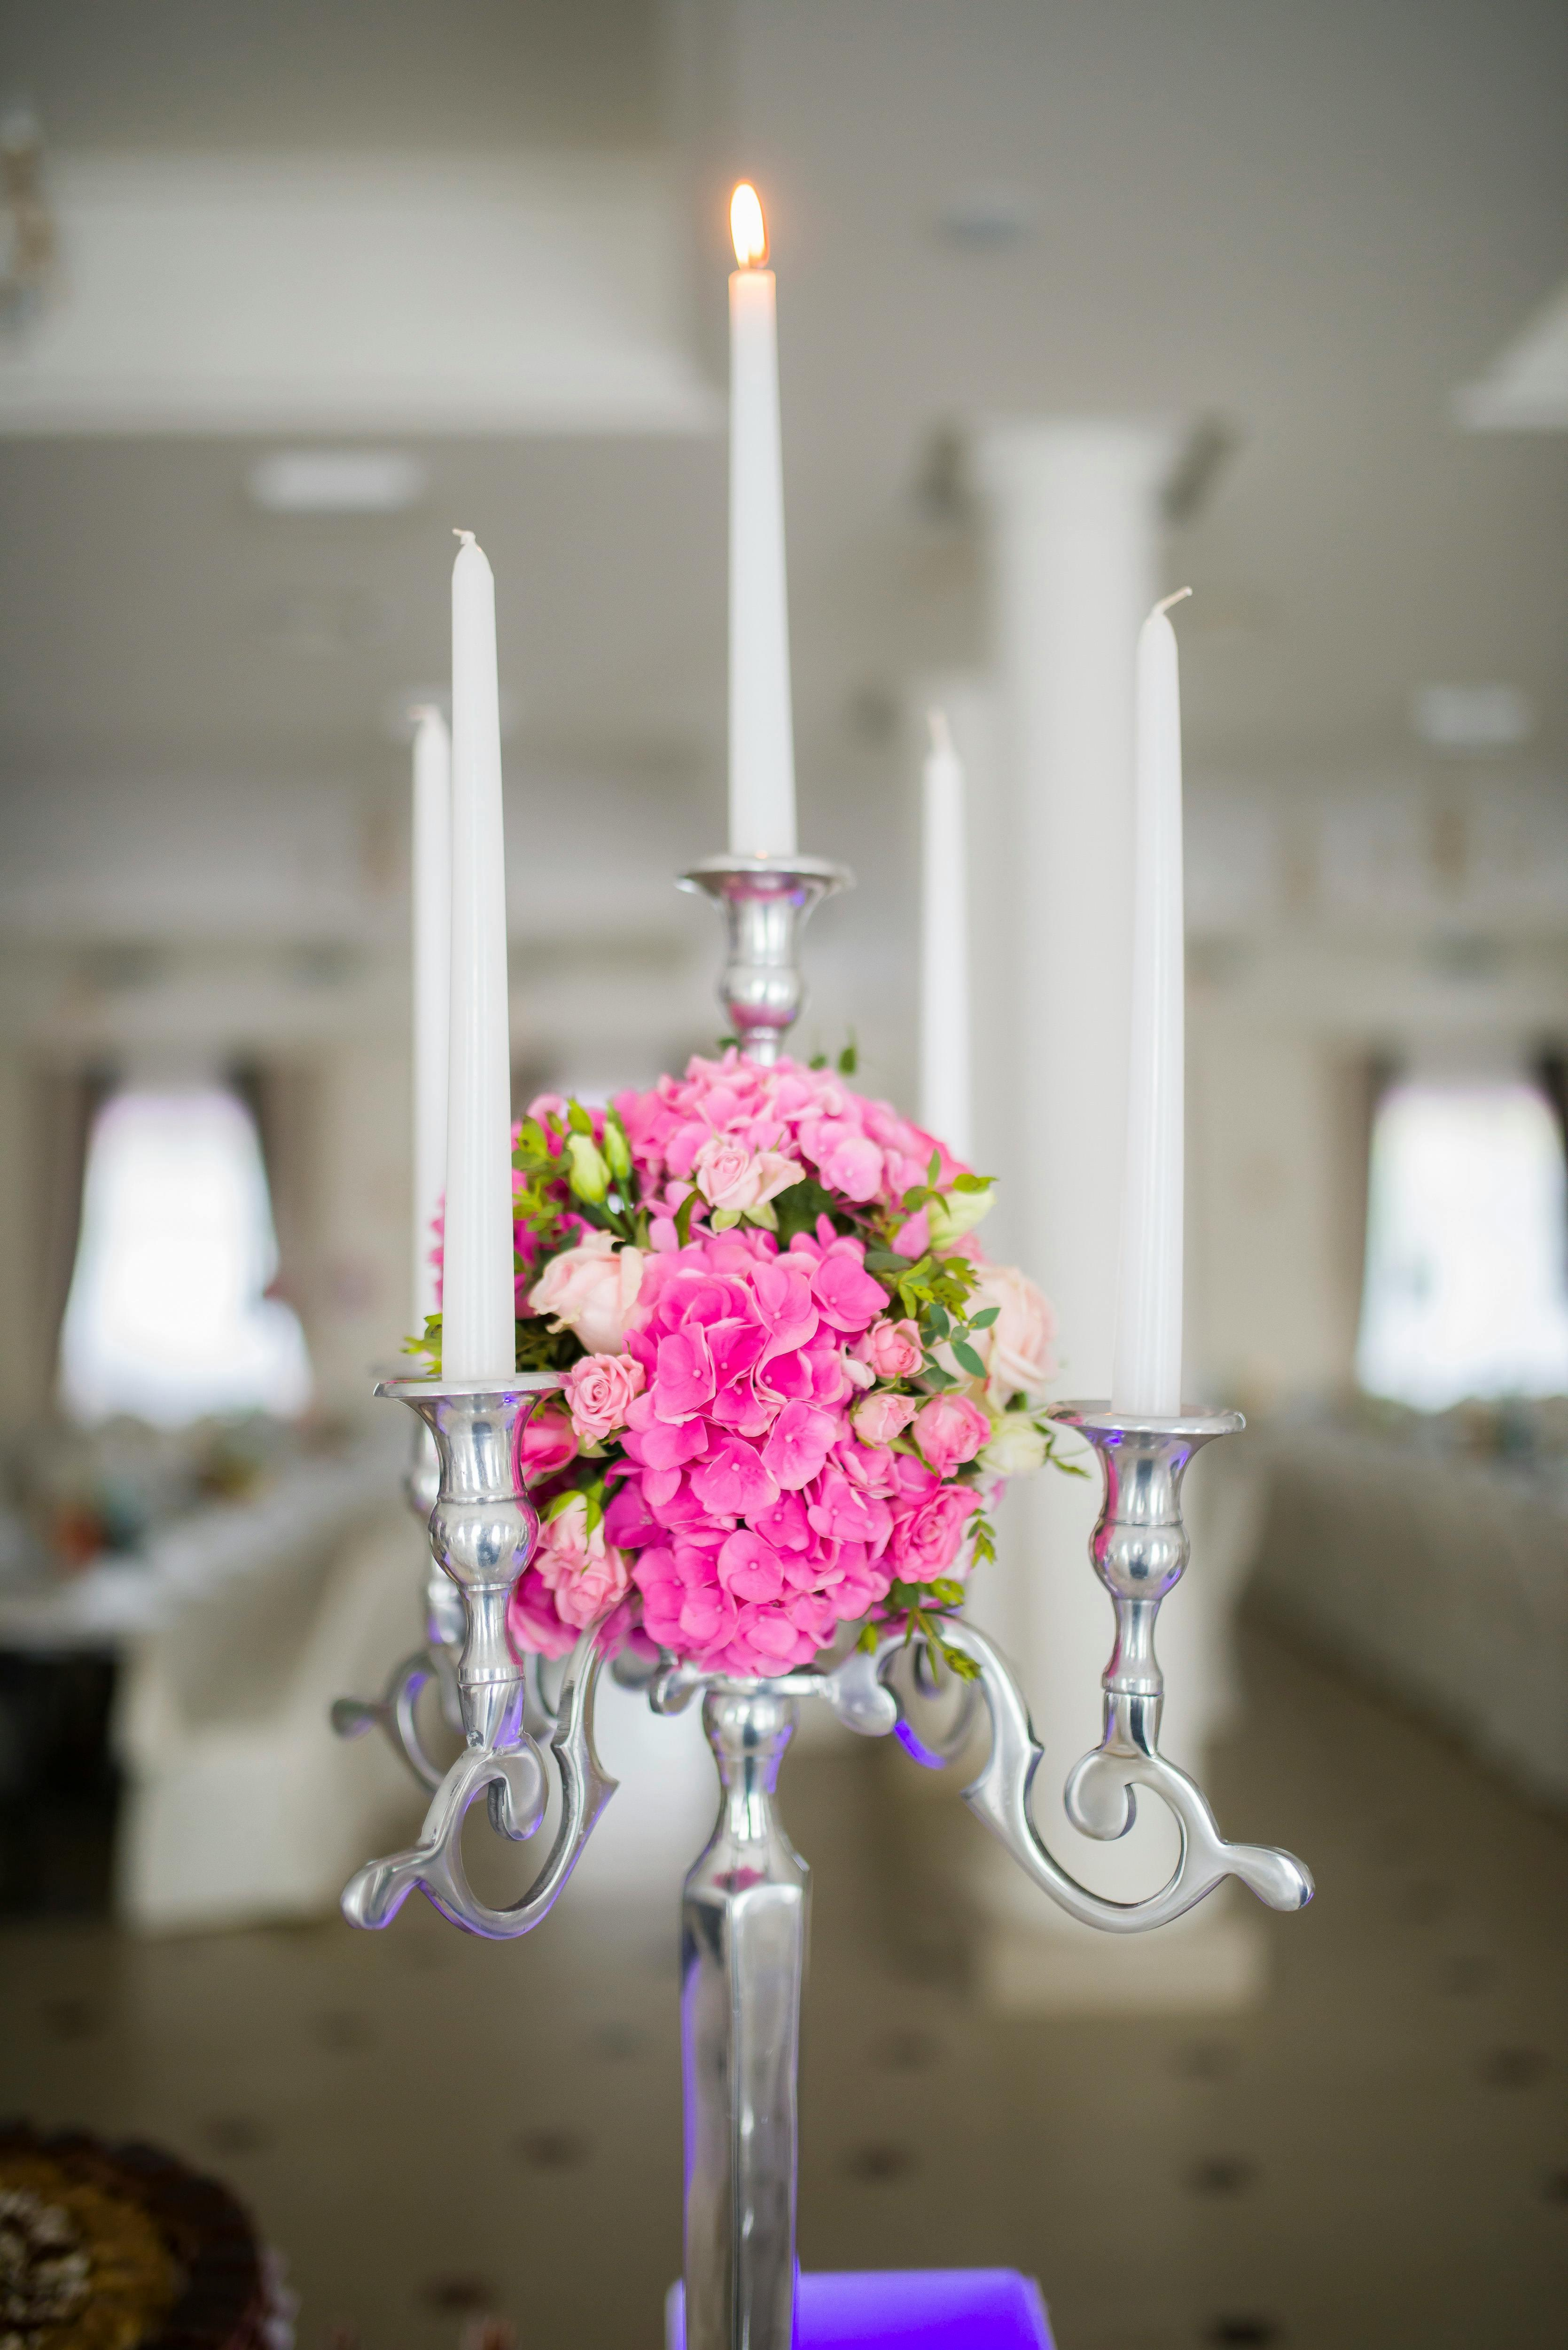Fire: (702, 166, 784, 273)
